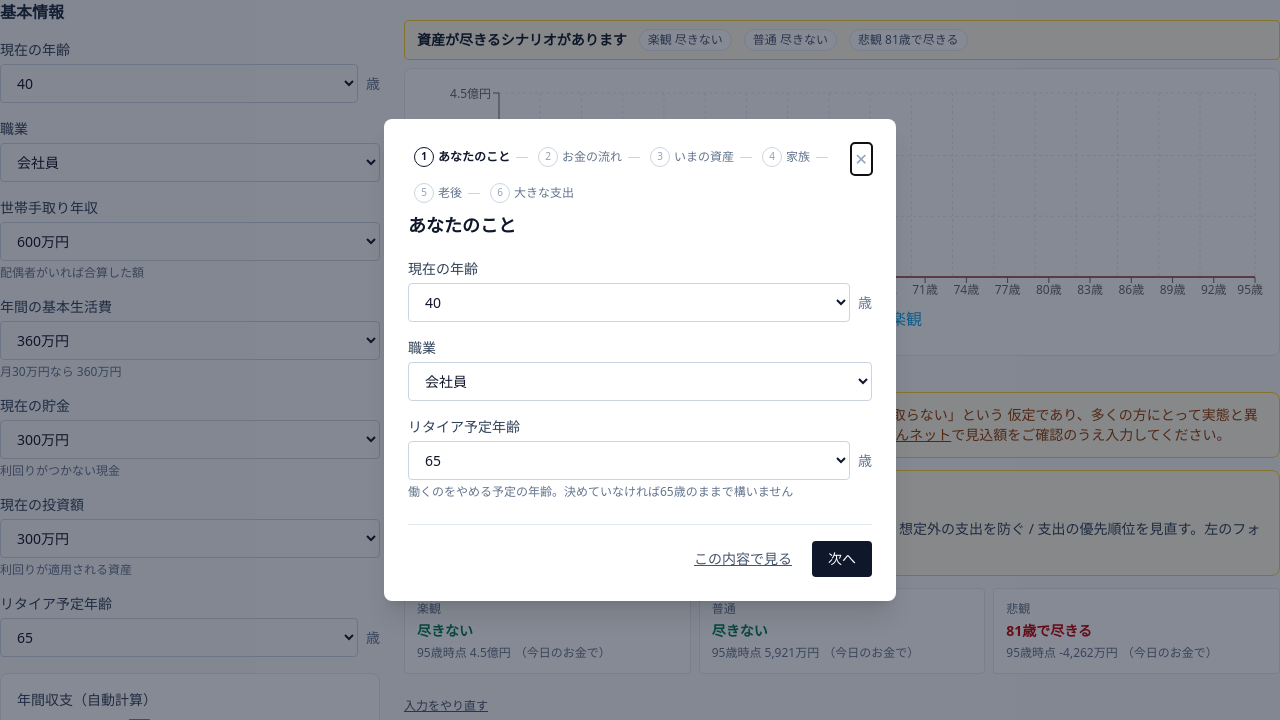
Test: ポップアップ › 閉じたあと「入力をやり直す」で開き直せる
Press Escape
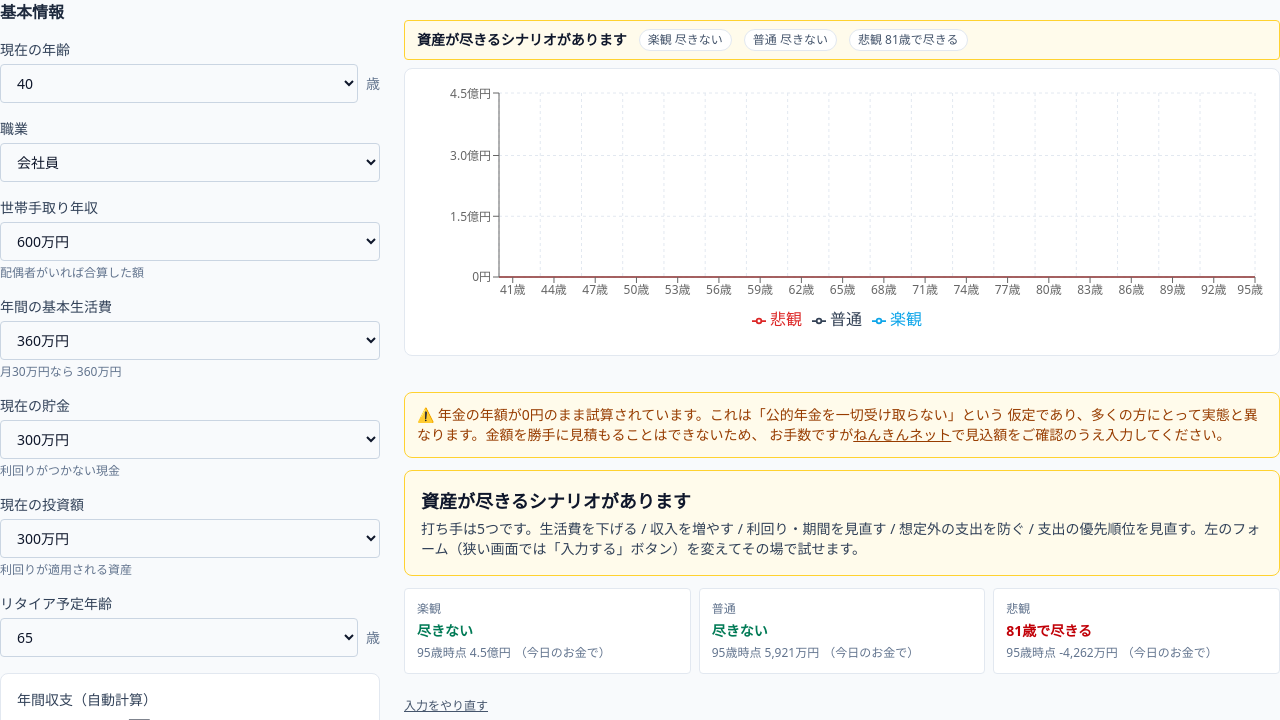
Click the button "入力をやり直す" at (446, 706), box [404, 698, 488, 714]
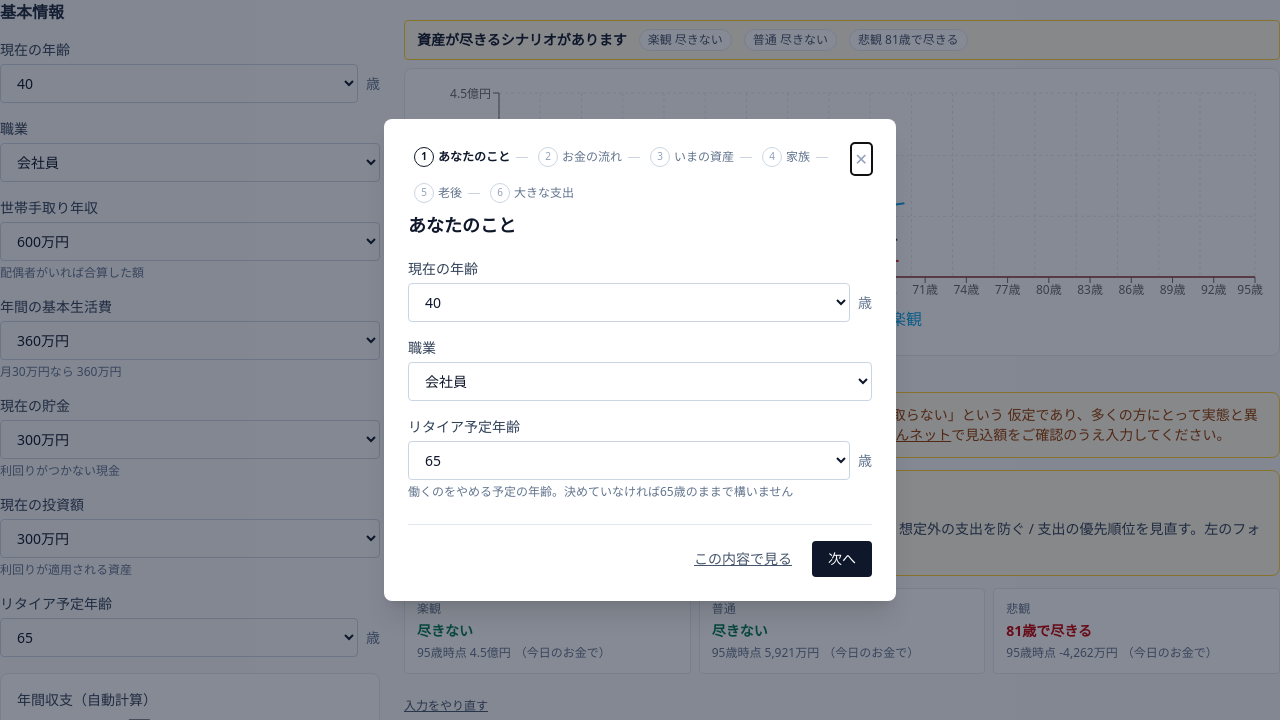
Now the dialog is shown, box [384, 119, 896, 601]
